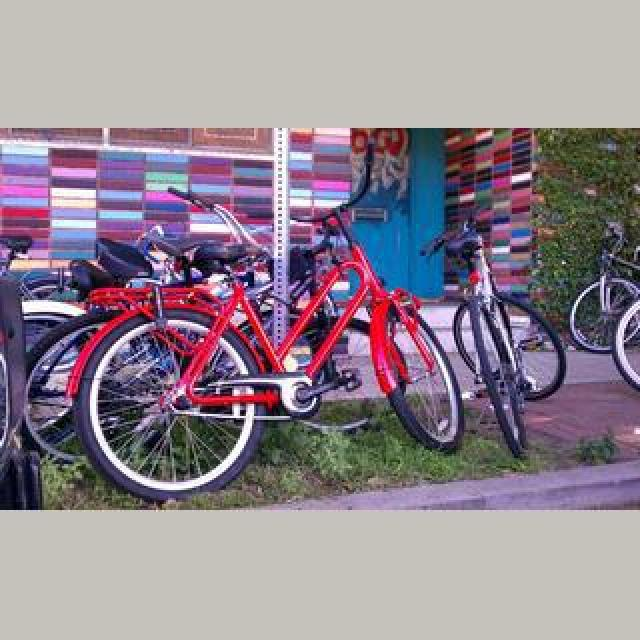Person: (46, 170, 480, 506), (422, 210, 568, 462)
